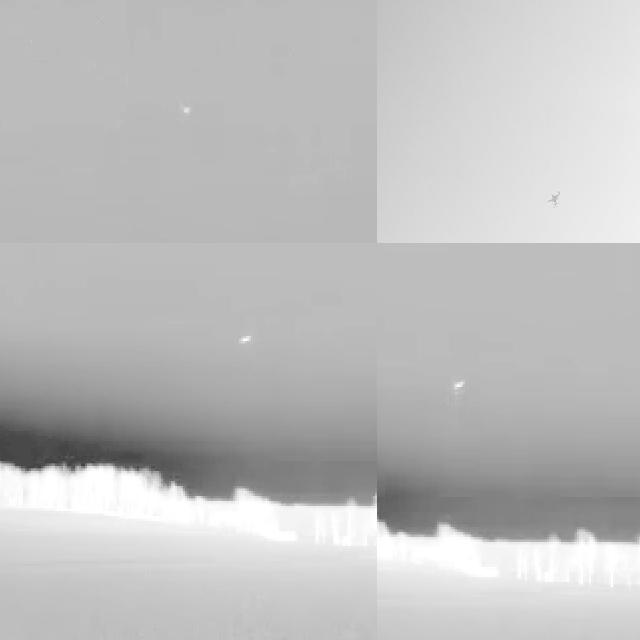0: (179, 101, 201, 124)
1: (439, 368, 479, 414), (228, 326, 264, 364)
drone: (547, 187, 563, 211)
